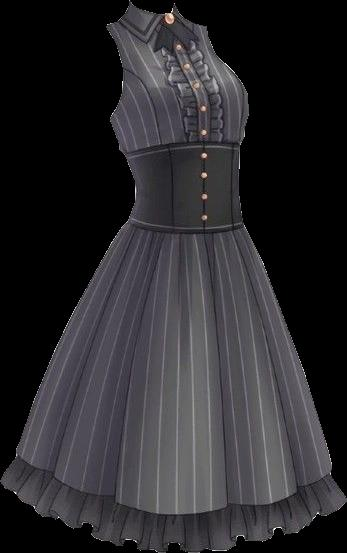Bodice: (106, 1, 248, 233)
Hemline: (0, 477, 346, 552)
Neckline: (122, 135, 244, 158), (129, 0, 179, 16)
Skirt: (1, 222, 346, 552)
Waistline: (12, 451, 335, 517), (124, 220, 248, 236)
